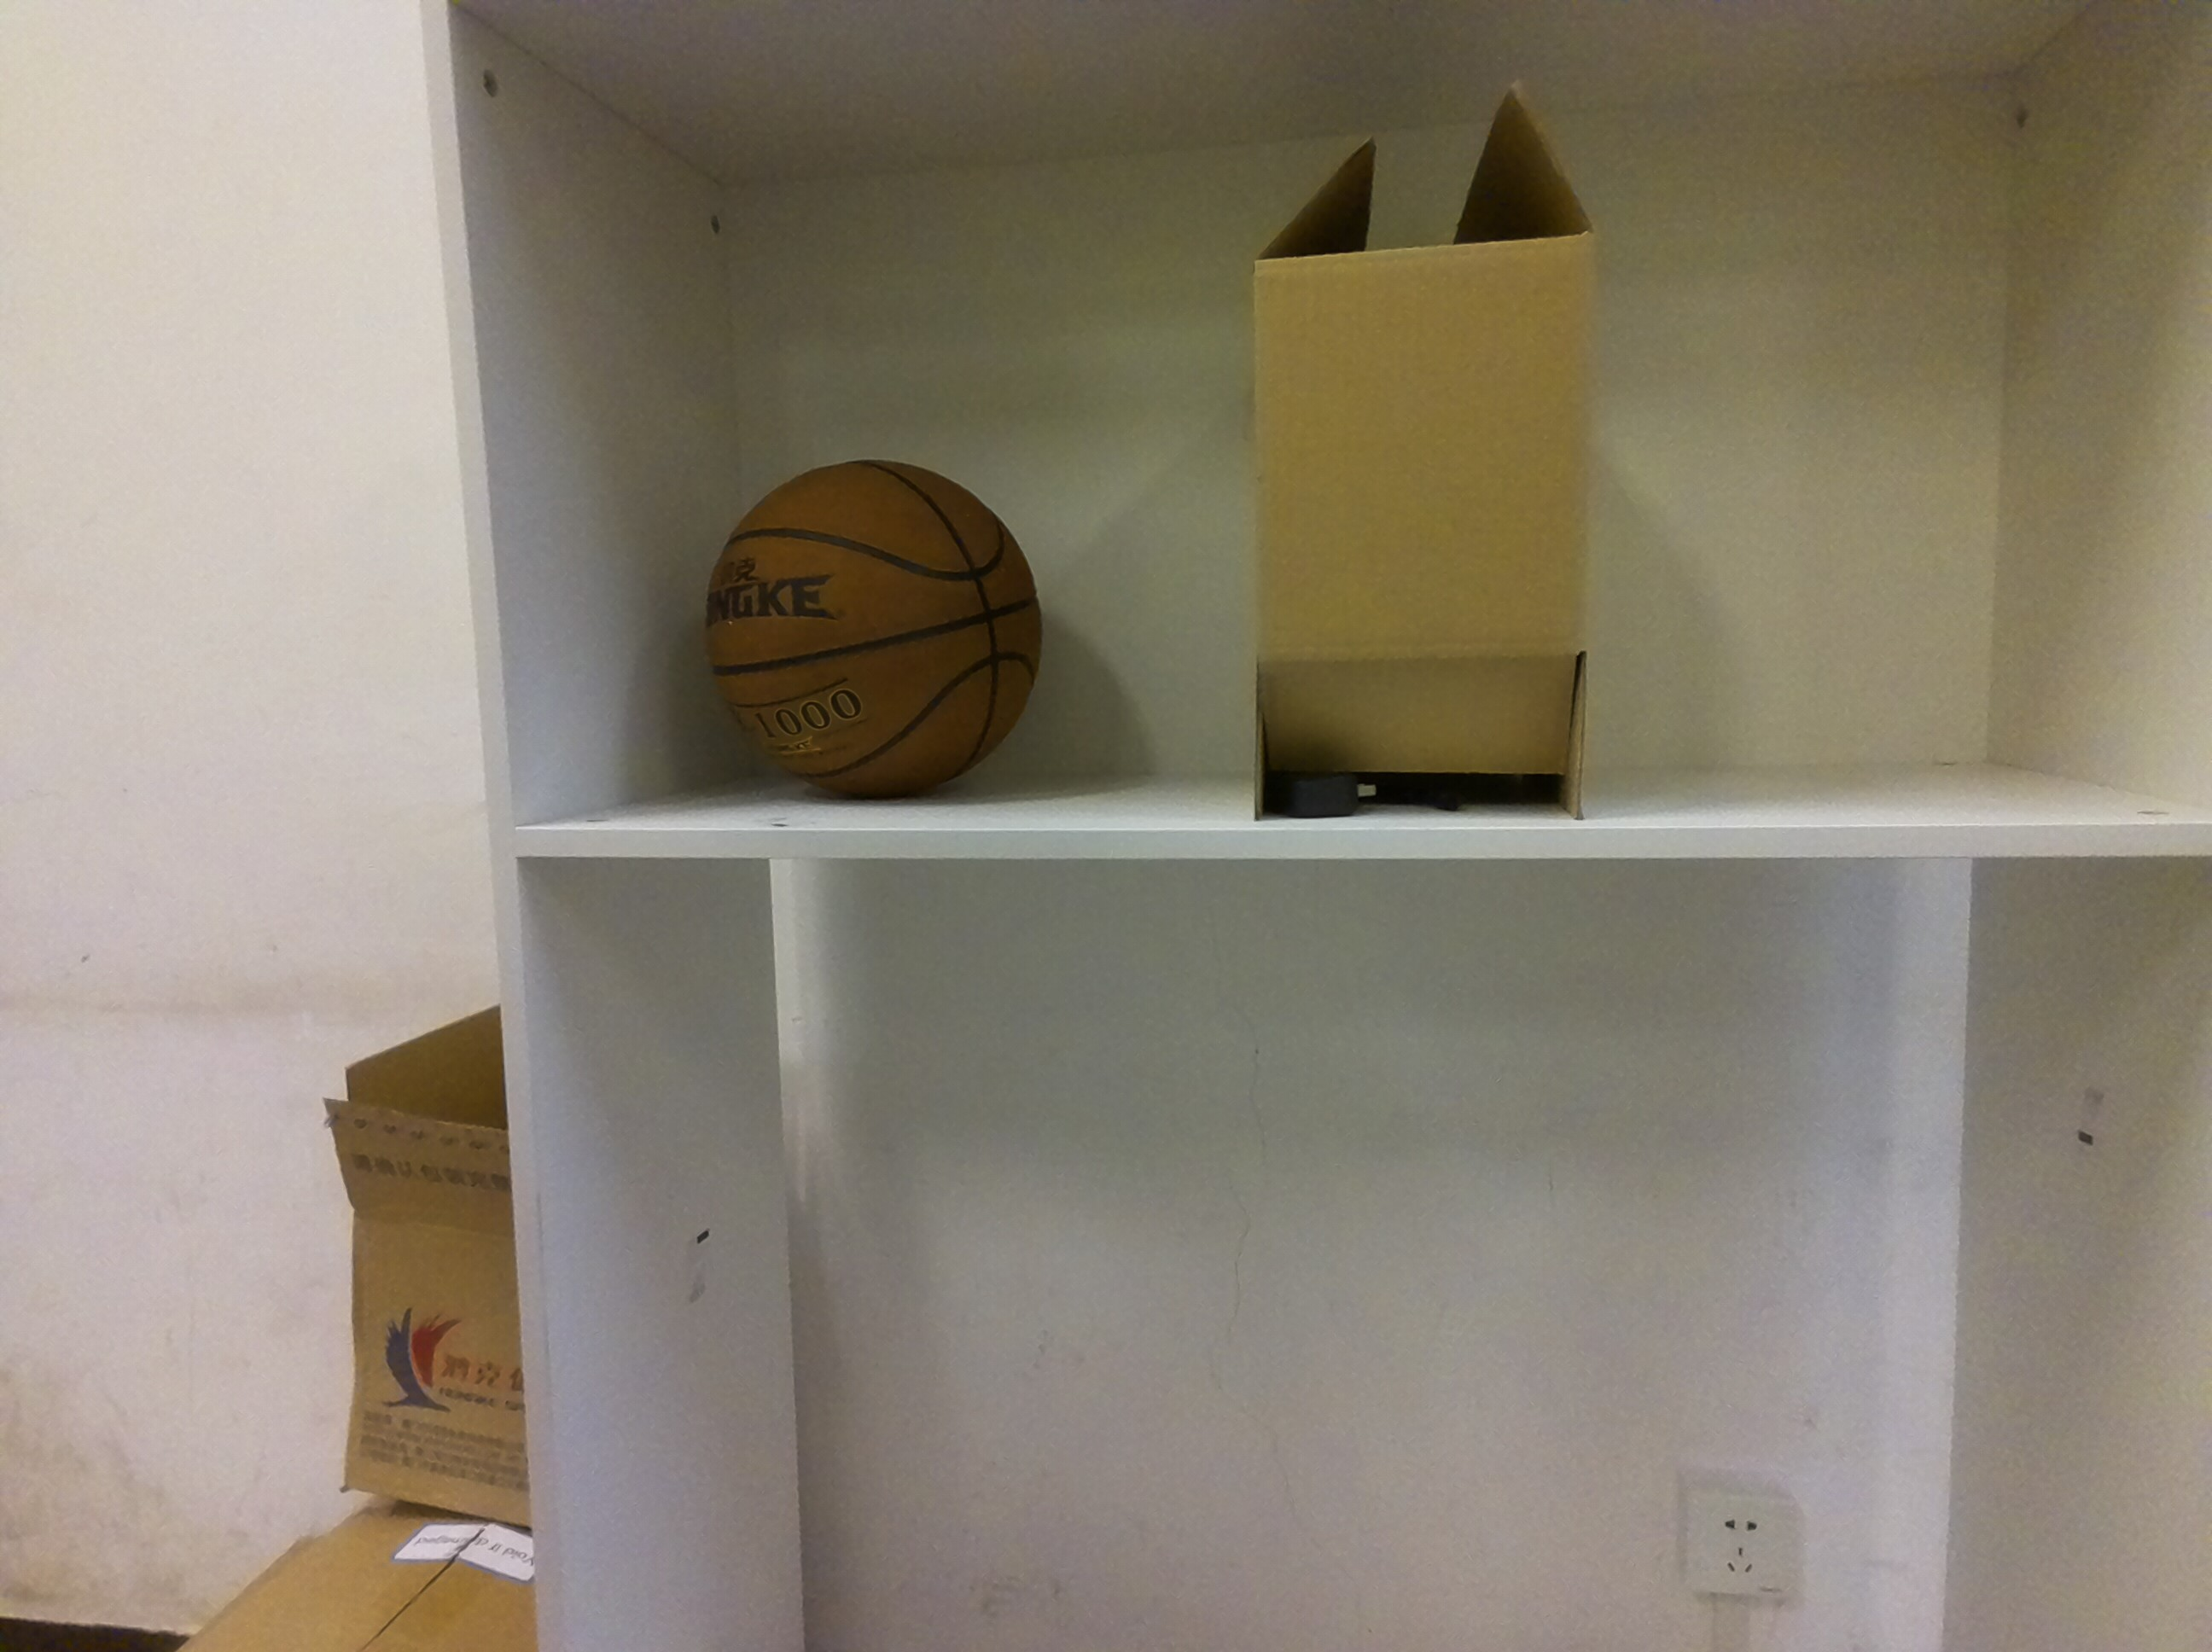basketball: (692, 442, 1053, 812)
